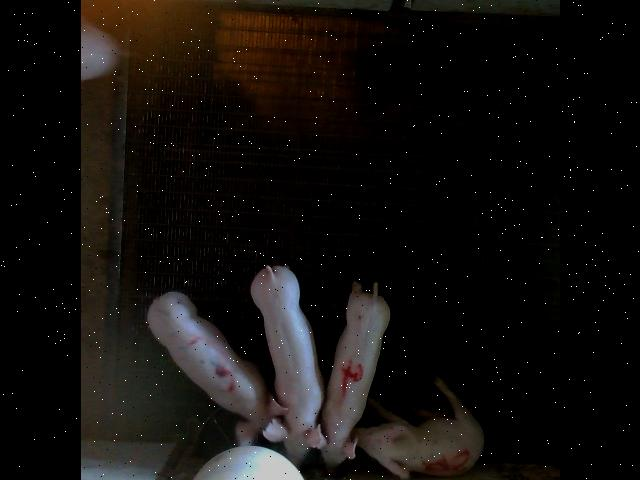pig-3: (147, 291, 286, 445)
pig-4: (320, 281, 389, 469)
pig-5: (352, 376, 484, 479)
